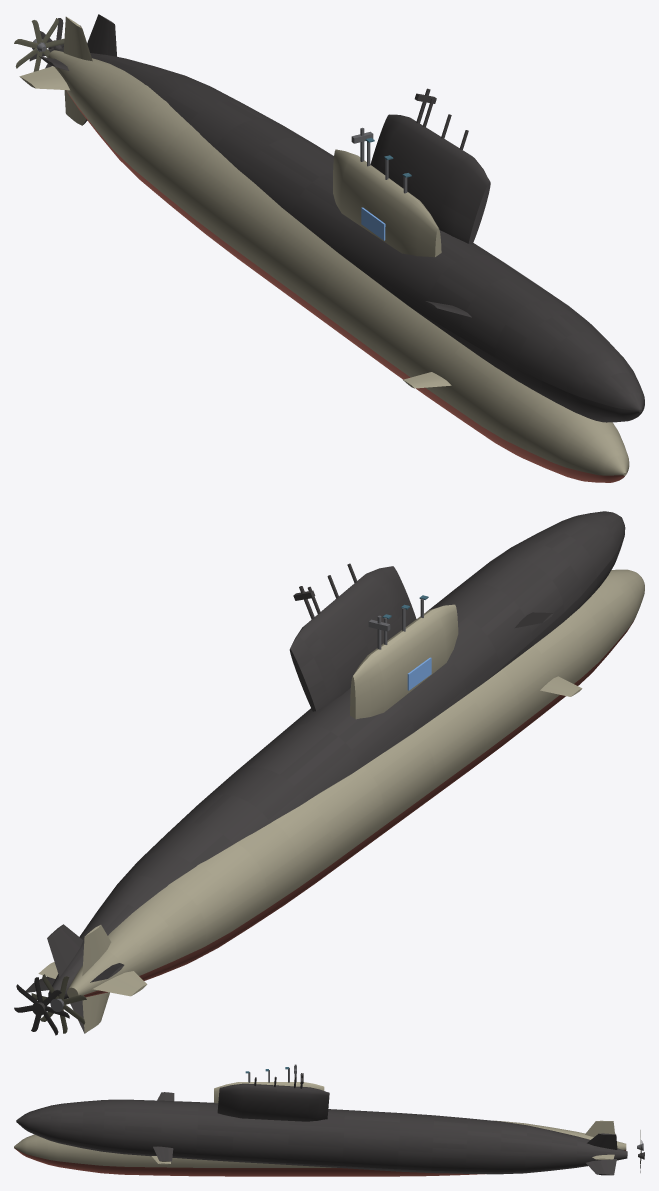
The model's file is submarine__reis_class.glb.
The picture shows the model from 3 angles, top to bottom: view 1: azimuth 30°, elevation 25°; view 2: azimuth 150°, elevation 25°; view 3: azimuth 270°, elevation 25°; orthographic projection. The views are drawn at different scales.
Parts seen in each view (by area): view 1: Hull_Mesh, Wreck; view 2: Hull_Mesh, Wreck; view 3: Wreck, Hull_Mesh.
Boxes of the visible parts, x1=… form: Hull_Mesh: x1=14, y1=16, x2=629, y2=482; Wreck: x1=29, y1=14, x2=644, y2=422; Hull_Mesh: x1=31, y1=569, x2=644, y2=1033; Wreck: x1=14, y1=511, x2=625, y2=1035; Wreck: x1=16, y1=1073, x2=644, y2=1175; Hull_Mesh: x1=14, y1=1067, x2=643, y2=1176.
Size of what is drawn, in the model's own units: 11.06 by 14 by 67.61.
